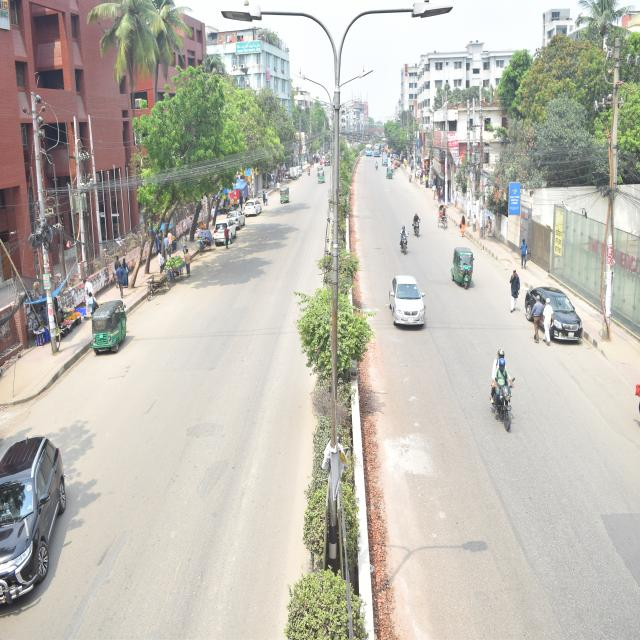bus: (372, 140, 382, 158), (363, 142, 373, 158)
car: (0, 408, 86, 611), (517, 268, 603, 387), (386, 260, 428, 358), (214, 212, 244, 251), (239, 187, 268, 223), (221, 198, 250, 230), (294, 161, 308, 186)
motorbike: (483, 336, 551, 461), (403, 191, 425, 253), (389, 216, 411, 264), (369, 148, 379, 177)
